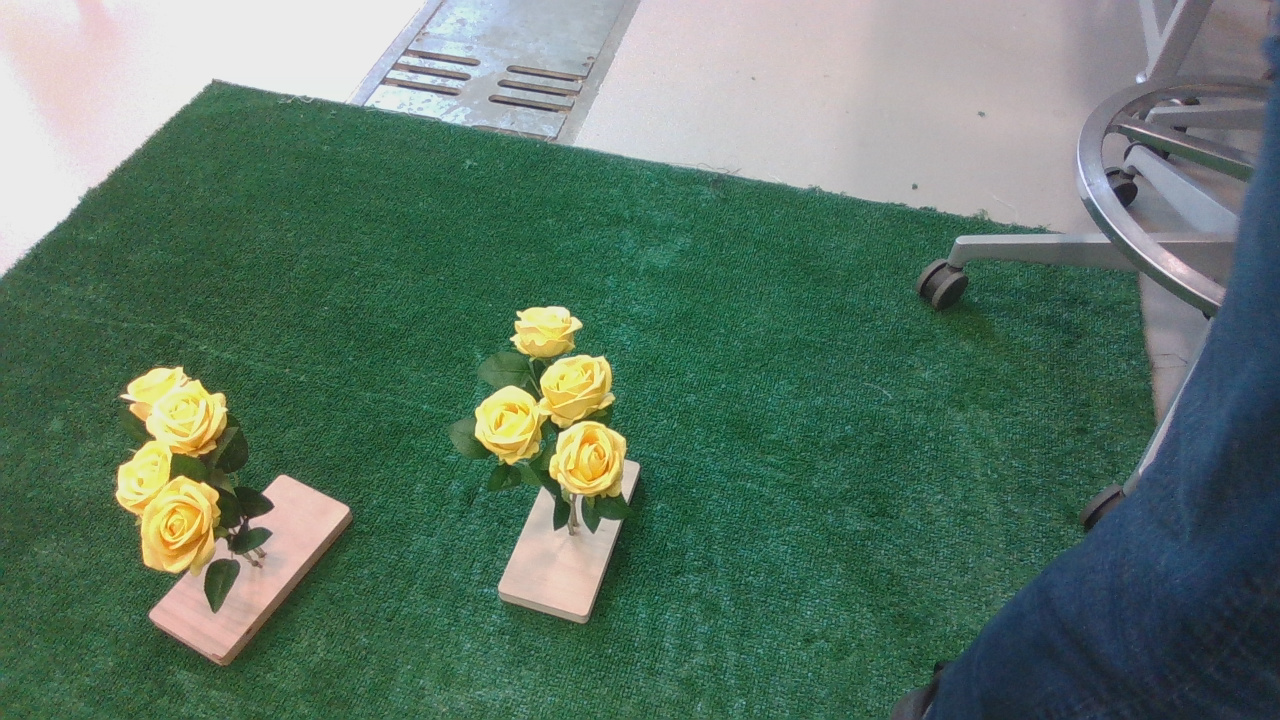rose: (445, 305, 686, 544), (109, 366, 293, 620)
